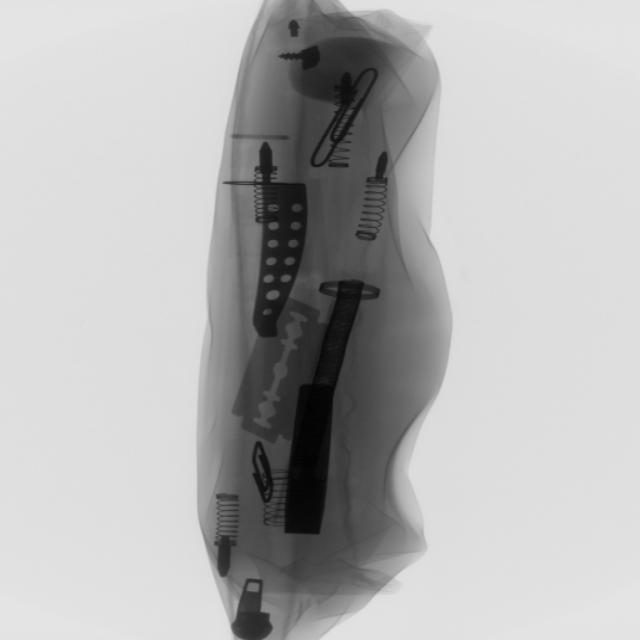BLADE: (230, 292, 323, 455)
